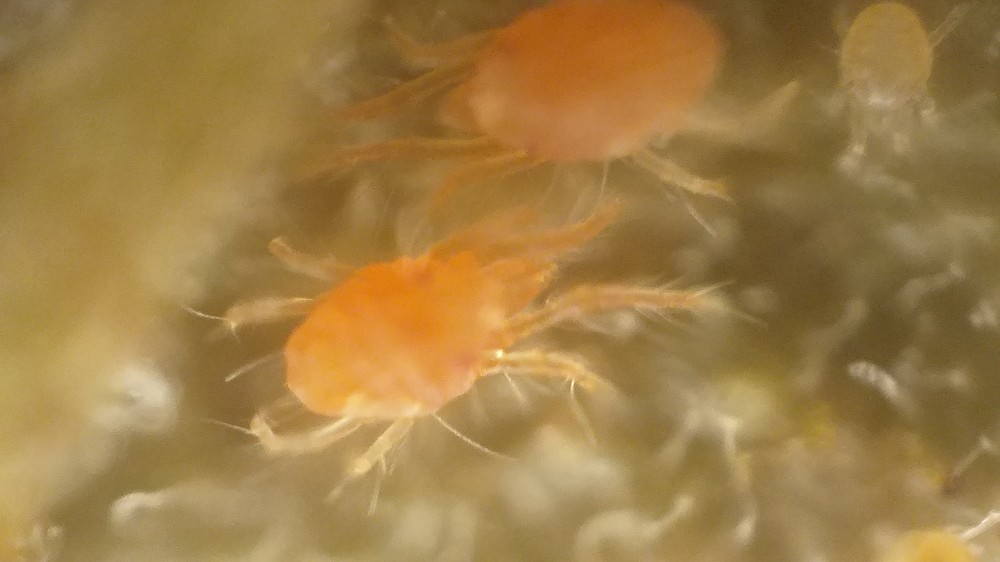Aracnido Rojo: (209, 189, 746, 465), (317, 8, 777, 187), (808, 5, 972, 164)
